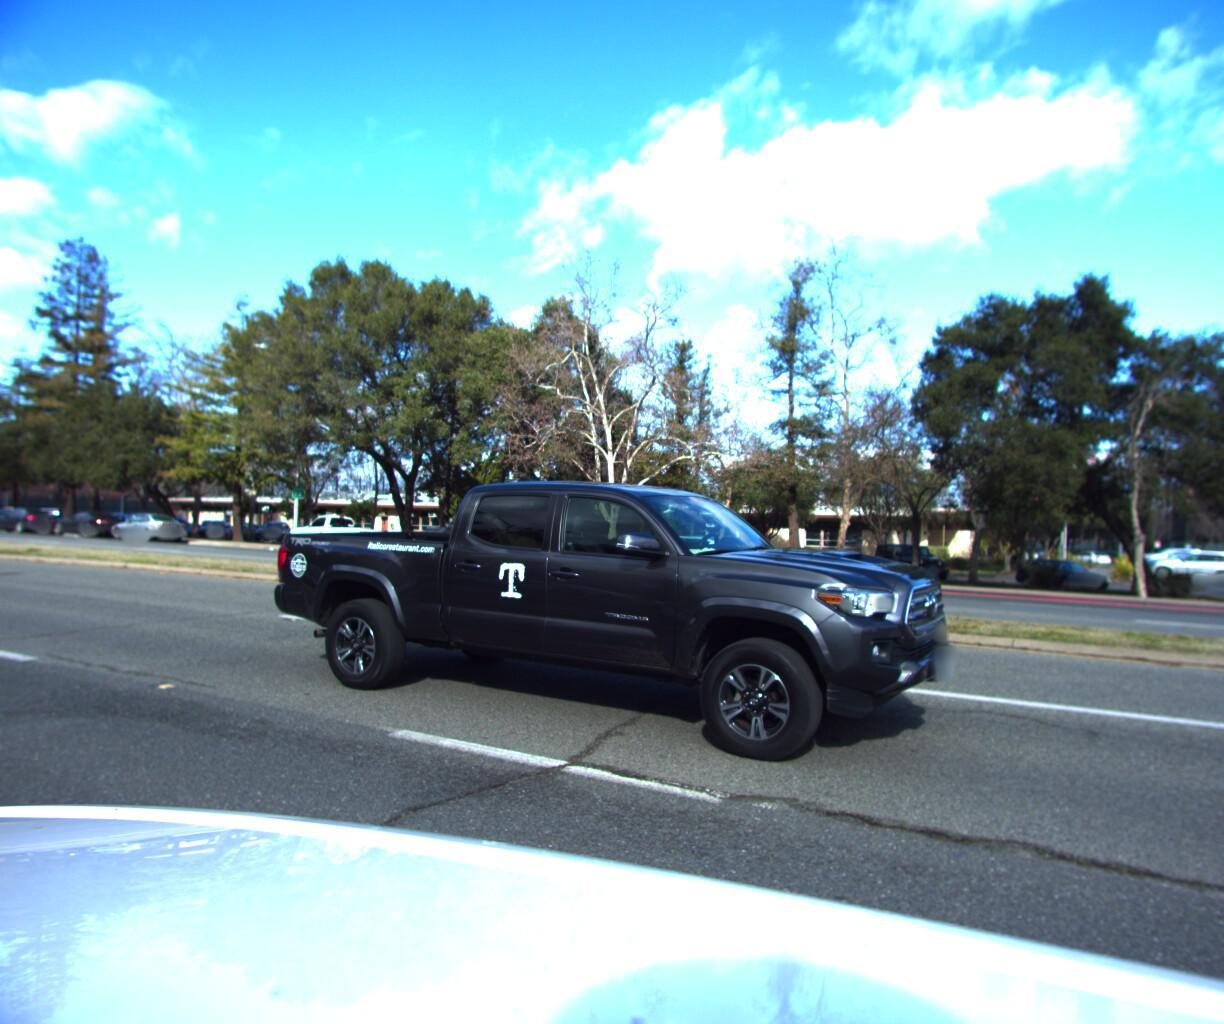car: (260, 466, 981, 790), (408, 513, 558, 574), (282, 513, 395, 564), (47, 505, 134, 545), (107, 511, 192, 549), (0, 504, 66, 540)
